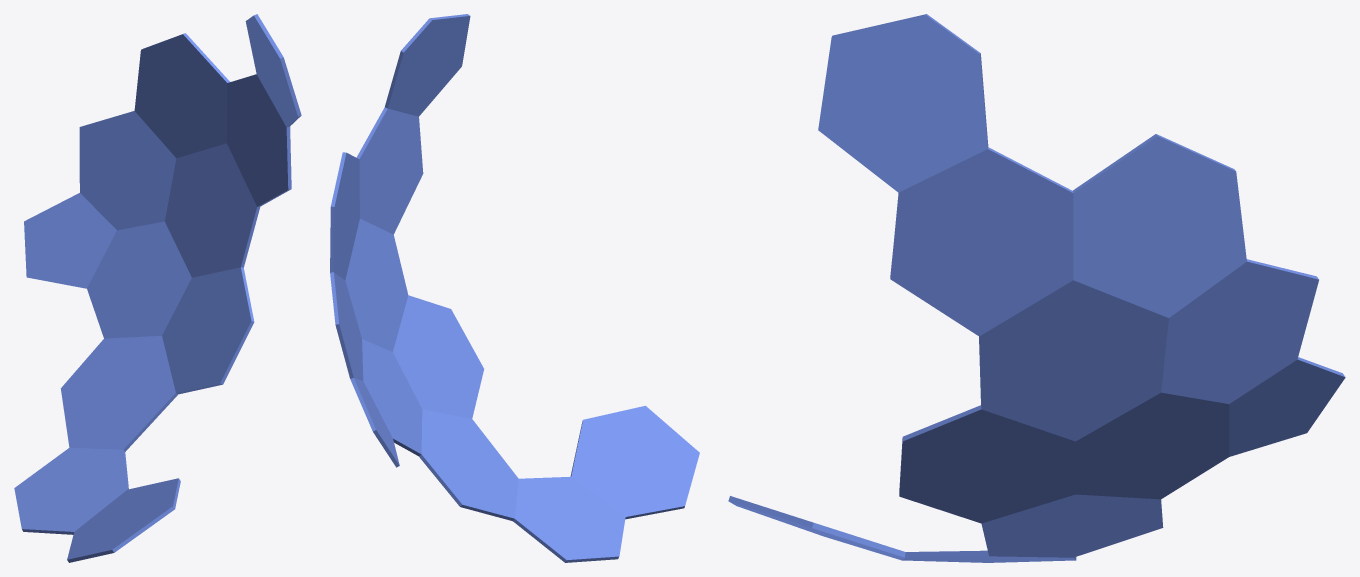
Rendered from Ocean6.fbx.
The picture shows the model from 3 angles, left to right: view 1: azimuth 30°, elevation 25°; view 2: azimuth 150°, elevation 25°; view 3: azimuth 270°, elevation 25°; orthographic projection. The views are drawn at different scales.
Visible parts, largest first — view 1: Icosphere.006; view 2: Icosphere.006; view 3: Icosphere.006.
Boxes of the visible parts, left/top/right/bottom form: Icosphere.006: left=14, top=14, right=301, bottom=562; Icosphere.006: left=330, top=14, right=699, bottom=562; Icosphere.006: left=728, top=14, right=1345, bottom=562.
Size of the model in its own units: 85.51 by 158 by 127.
